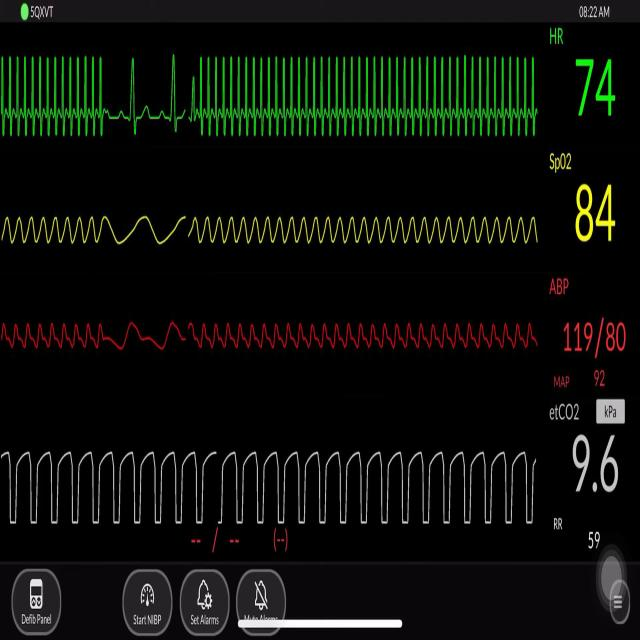danger: (192, 36, 545, 159), (3, 40, 112, 155)
